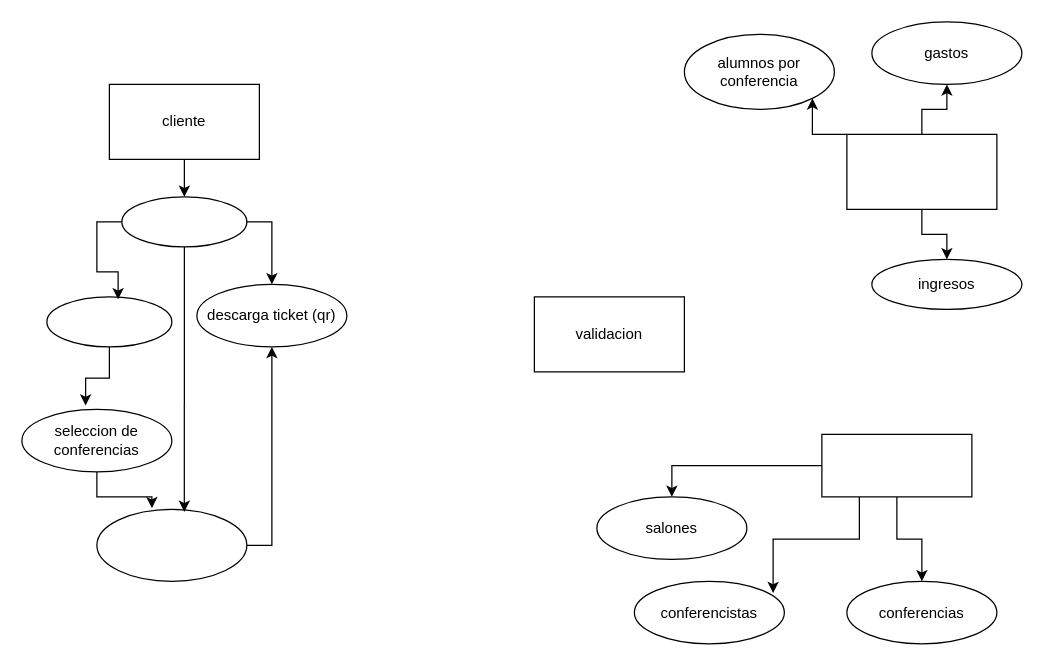
Image size: 1044x666. Some labels were removed from this diagram. Here are the shapes that lost their labels. From the top down, the box of each, then its label:
(846, 133, 997, 209): reportes
(121, 196, 247, 247): login
(46, 296, 172, 347): inscripcion
(821, 433, 972, 497): creacion tablas
(96, 508, 247, 581): validacion de pago
